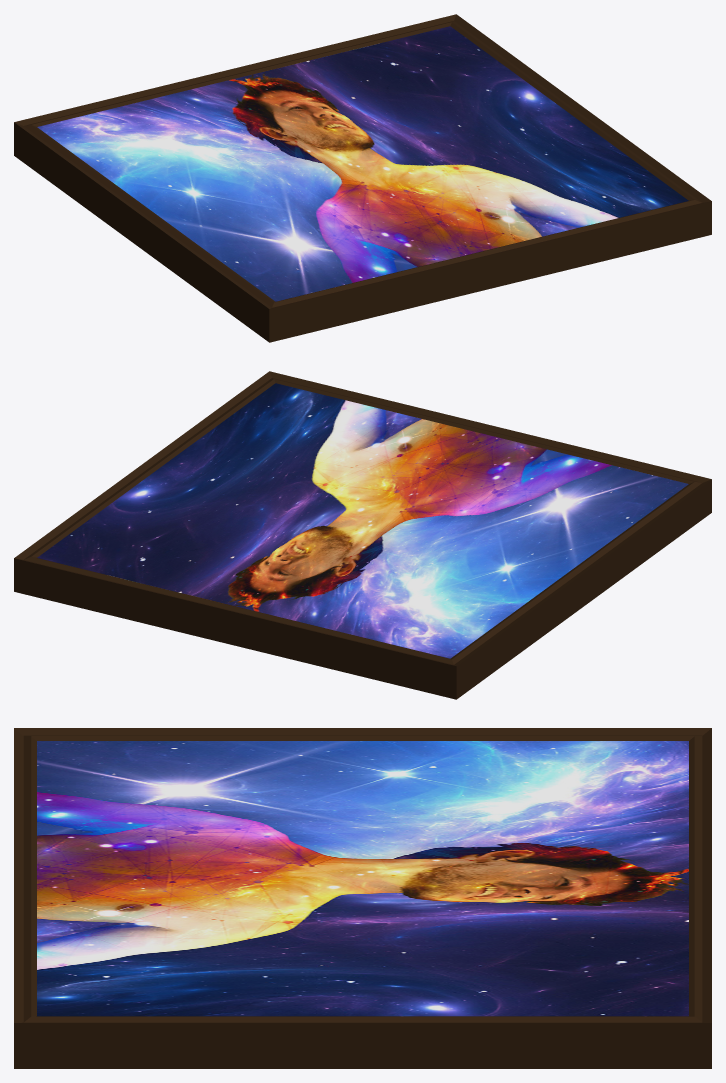
The model's file is markiplier4.fbx.
3 renders of one model, top to bottom at view 1: azimuth 30°, elevation 25°; view 2: azimuth 150°, elevation 25°; view 3: azimuth 270°, elevation 25°, orthographic. The views are drawn at different scales.
Visible parts, largest first — view 1: Cube.001; view 2: Cube.001; view 3: Cube.001.
Boxes of the visible parts, bbox=[...] form: Cube.001: bbox=[14, 14, 711, 342]; Cube.001: bbox=[14, 371, 711, 699]; Cube.001: bbox=[14, 728, 711, 1068].
Size of the model in its own units: 1600 by 116 by 1600.
Materials: 2 (1 with a texture image).
